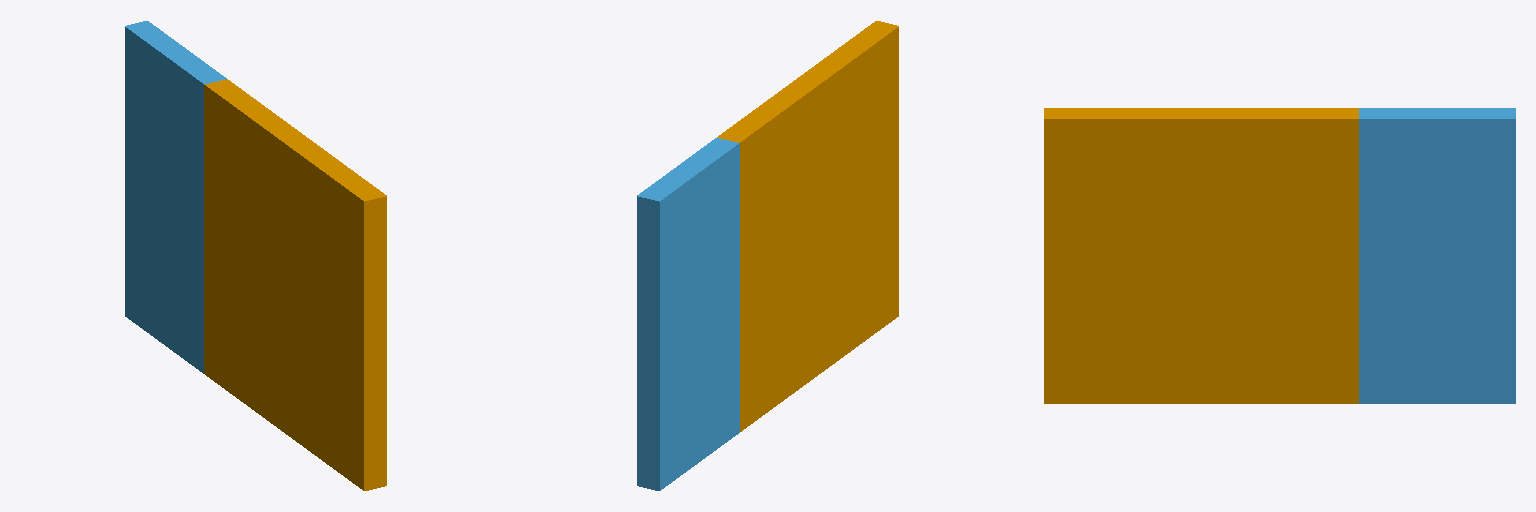
The robot description file, URDF, robot "door2":
<robot name="door2">
  <link name="wall">
    <inertial>
      <origin xyz="0 0 1.2" /> 
      <mass value="100.0" />
      <inertia  ixx="1.0" ixy="0"  ixz="0"  iyy="1.0"  iyz="0"  izz="1.0" />
    </inertial>
    <visual>
      <origin xyz="0 0 1.2"/>
      <geometry>
        <box size="0.2 2.4 2.4" />
      </geometry>
    </visual>
    <collision>
      <origin xyz="0 0 1.2"/>
      <geometry>
        <box size="0.2 2.4 2.4" />
      </geometry>
    </collision>
  </link>

  <link name="door">
    <inertial>
      <origin xyz="-0.1 0.6 0" /> 
      <mass value="1.0" />
      <inertia  ixx="1.0" ixy="0"  ixz="0"  iyy="1.0"  iyz="0"  izz="1.0" />
    </inertial>
    <visual>
      <origin xyz="-0.1 0.6 0"/>
      <geometry>
        <box size="0.2 1.2 2.4" />
      </geometry>
    </visual>
    <collision>
      <origin xyz="-0.1 0.6 0"/>
      <geometry>
        <box size="0.2 1.2 2.4" />
      </geometry>
    </collision>
  </link>

  <joint name="hinge" type="revolute">
    <limit upper="0" lower="-1.57" velocity="10" effort="1"/>
    <origin xyz="0.1 1.2 1.2"/>
    <axis xyz="0 0 1" />
    <parent link="wall"/>
    <child link="door"/>
  </joint>   

  <gazebo reference="wall">
    <material>Gazebo/Blue</material>
    <static>true</static>
  </gazebo>
</robot>

--- What the picture shows (computed from the rendered views, not written in the file) ---
3 views of the same robot in one strip: view 1: azimuth 30°, elevation 25°; view 2: azimuth 150°, elevation 25°; view 3: azimuth 270°, elevation 25° (orthographic).
Model door2 with 2 links and 1 joints (1 revolute), rooted at wall, posed all joints at 0.
Visible links, largest first — view 1: wall, door; view 2: wall, door; view 3: wall, door.
Boxes of the visible links, bbox=[...] form: wall: bbox=[204, 79, 386, 490]; door: bbox=[125, 21, 226, 373]; wall: bbox=[717, 21, 898, 431]; door: bbox=[637, 138, 739, 490]; wall: bbox=[1044, 108, 1358, 403]; door: bbox=[1359, 108, 1515, 403].
Bounding box of the posed robot: 0.2 × 3.6 × 2.4 m (x, y, z).
Geometry: primitives only (box / cylinder / sphere), no mesh files.